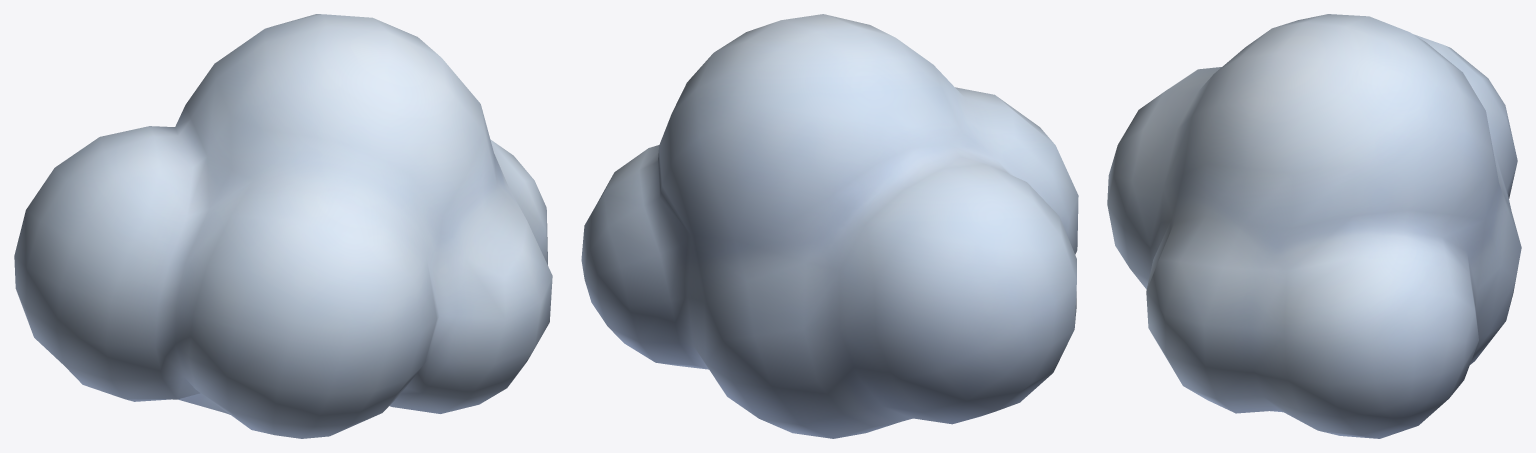
Rendered from Cloud.FBX.
3 views of the same model, side by side, from view 1: azimuth 30°, elevation 25°; view 2: azimuth 150°, elevation 25°; view 3: azimuth 270°, elevation 25° (orthographic). The views are drawn at different scales.
Parts seen in each view (by area): view 1: Cloud; view 2: Cloud; view 3: Cloud.
Boxes of the visible parts, x1,y1,x2,y2 form: Cloud: (14, 14, 552, 438); Cloud: (581, 14, 1078, 438); Cloud: (1107, 14, 1521, 438).
Bounding box in the file's own units: 95.76 × 72.56 × 72.42.
